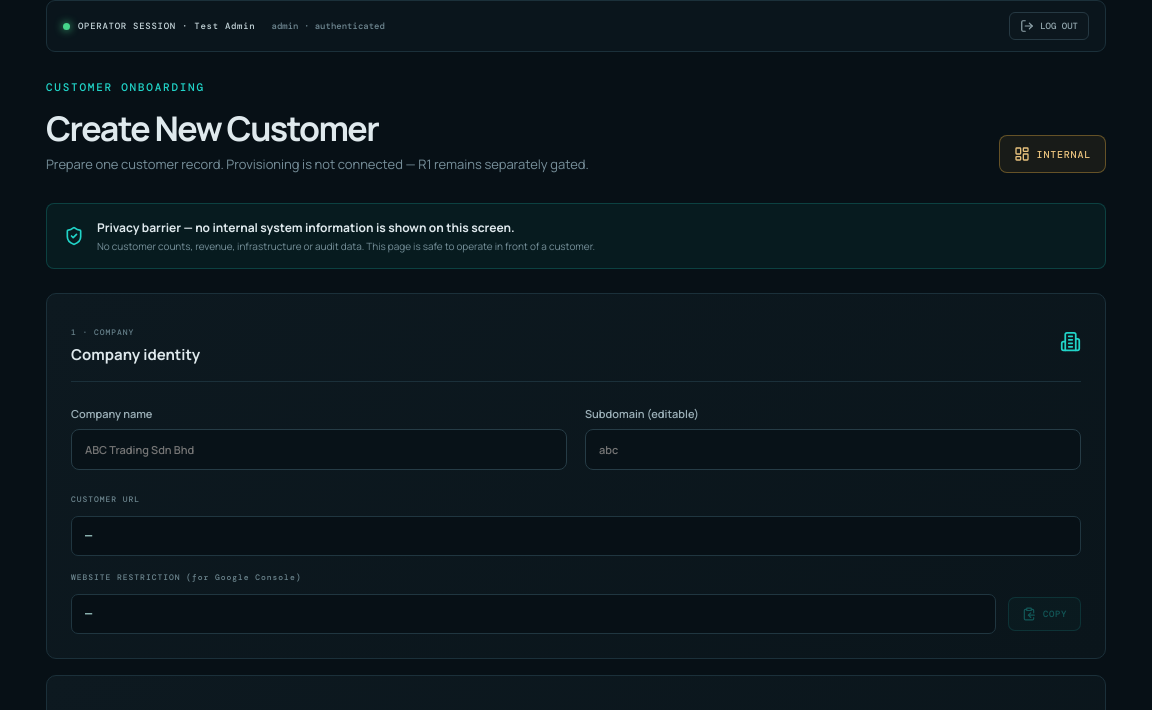
Test: PRE-R1 Create Customer page › 7. customer URL generates correctly
In the field labelled "Company name": {"x": 319, "y": 450} x1=71 y1=429 x2=567 y2=470, type "Meridian Industrial"
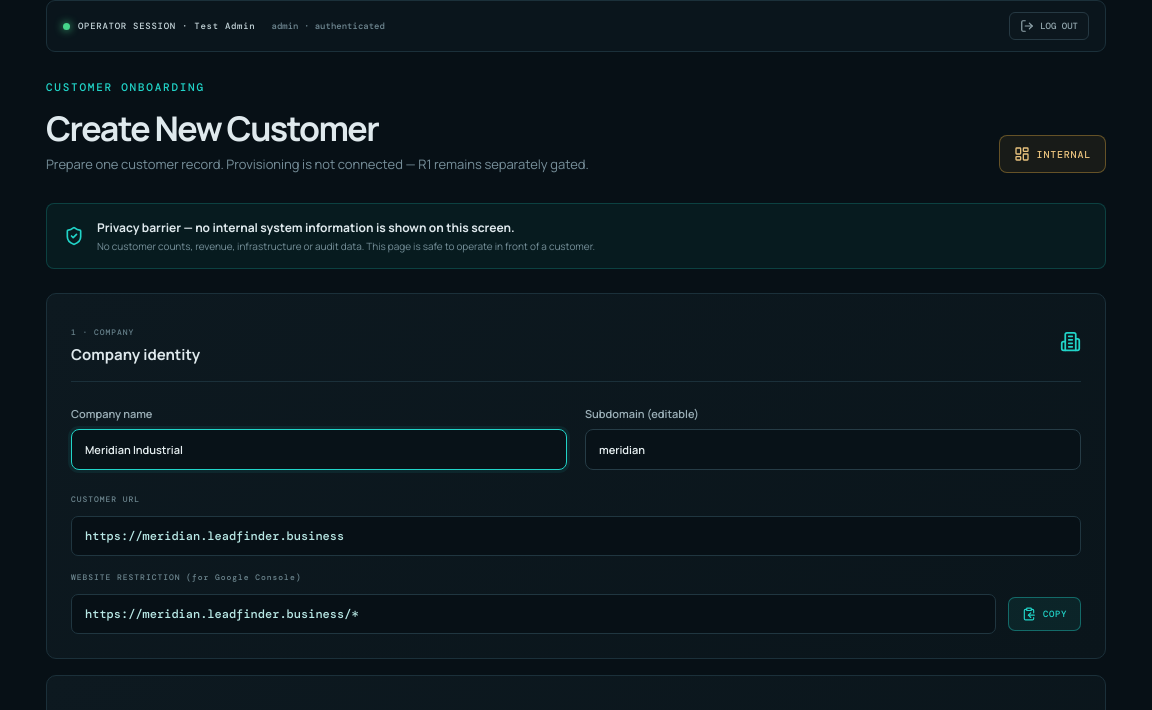
Check: the text with test id "customer-url" reads "https://meridian.leadfinder.business", box x1=85 y1=528 x2=344 y2=544
